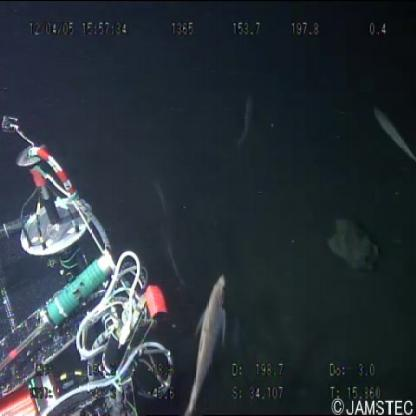Bio: (179, 270, 230, 416), (370, 104, 416, 163)
Rov: (1, 110, 175, 416)
Rác: (324, 214, 380, 275)
